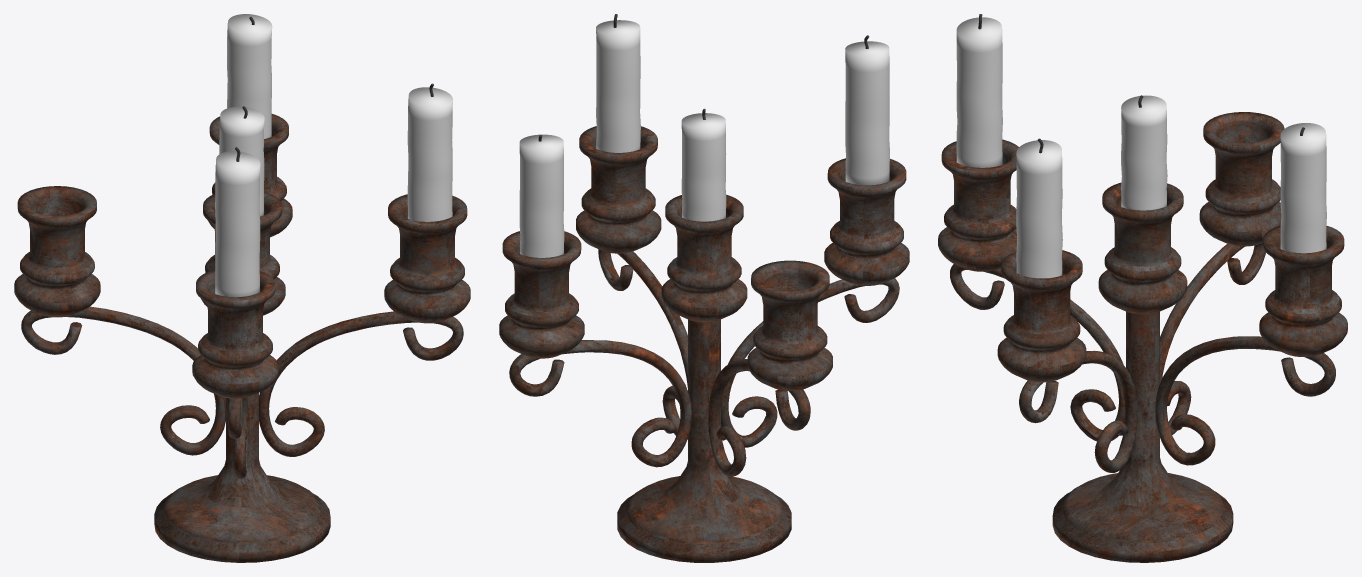
Rendered from candle standalone.fbx.
3 views of the same model, side by side, from view 1: azimuth 30°, elevation 25°; view 2: azimuth 150°, elevation 25°; view 3: azimuth 270°, elevation 25° (orthographic). The views are drawn at different scales.
Visible parts, largest first — view 1: Cylinder.031; view 2: Cylinder.031; view 3: Cylinder.031.
Part boxes in pixels (box(x1,y1,x2,y2)): Cylinder.031: box(14, 14, 470, 562); Cylinder.031: box(499, 14, 909, 562); Cylinder.031: box(938, 14, 1347, 562).
Bounding box in the file's own units: 170 × 214 × 170.
Materials: 3 (1 with a texture image).
